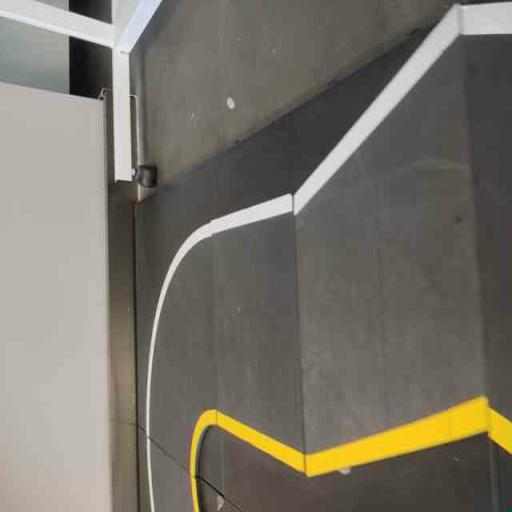crossleft: (291, 0, 491, 508)
